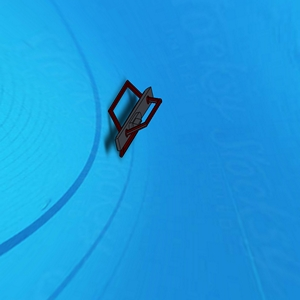submarine: (101, 78, 162, 152)
